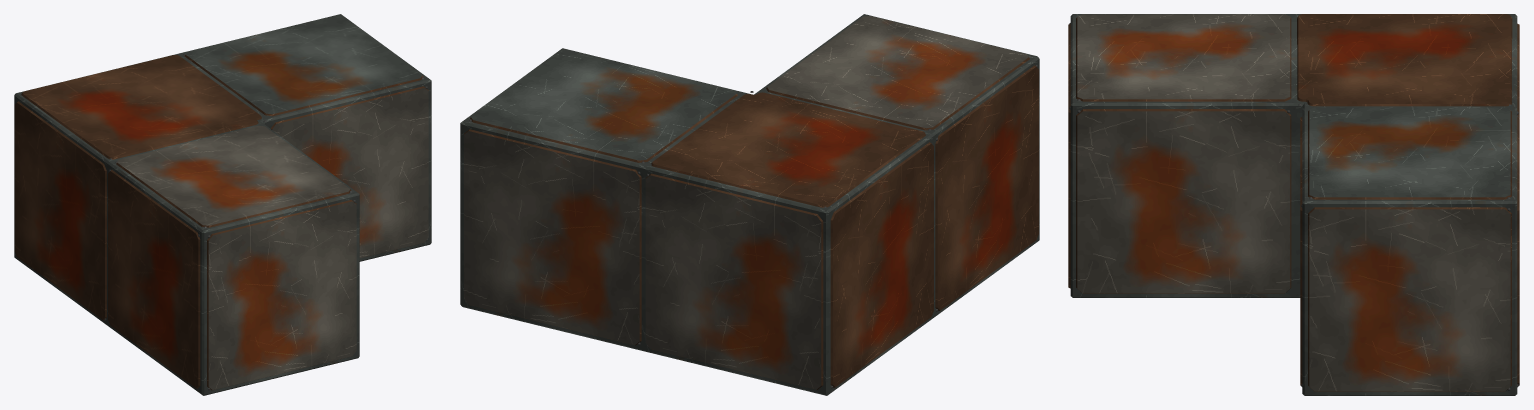
Rendered from R4B_CornerL3.glb.
The picture shows the model from 3 angles, left to right: view 1: azimuth 30°, elevation 25°; view 2: azimuth 150°, elevation 25°; view 3: azimuth 270°, elevation 25°; orthographic projection. The views are drawn at different scales.
Parts seen in each view (by area): view 1: R4B_CornerL3; view 2: R4B_CornerL3; view 3: R4B_CornerL3.
Part boxes in pixels (<box>): R4B_CornerL3: <box>14,14,431,395</box>; R4B_CornerL3: <box>460,14,1039,395</box>; R4B_CornerL3: <box>1068,14,1519,395</box>.
Bounding box in the file's own units: 1.07 × 0.52 × 1.07.
Materials: 4 (4 with a texture image).
